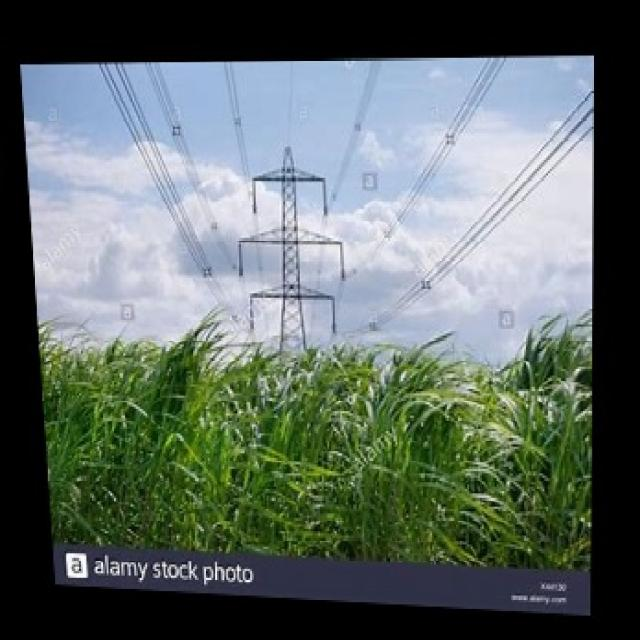utility poles: (234, 86, 346, 553)
